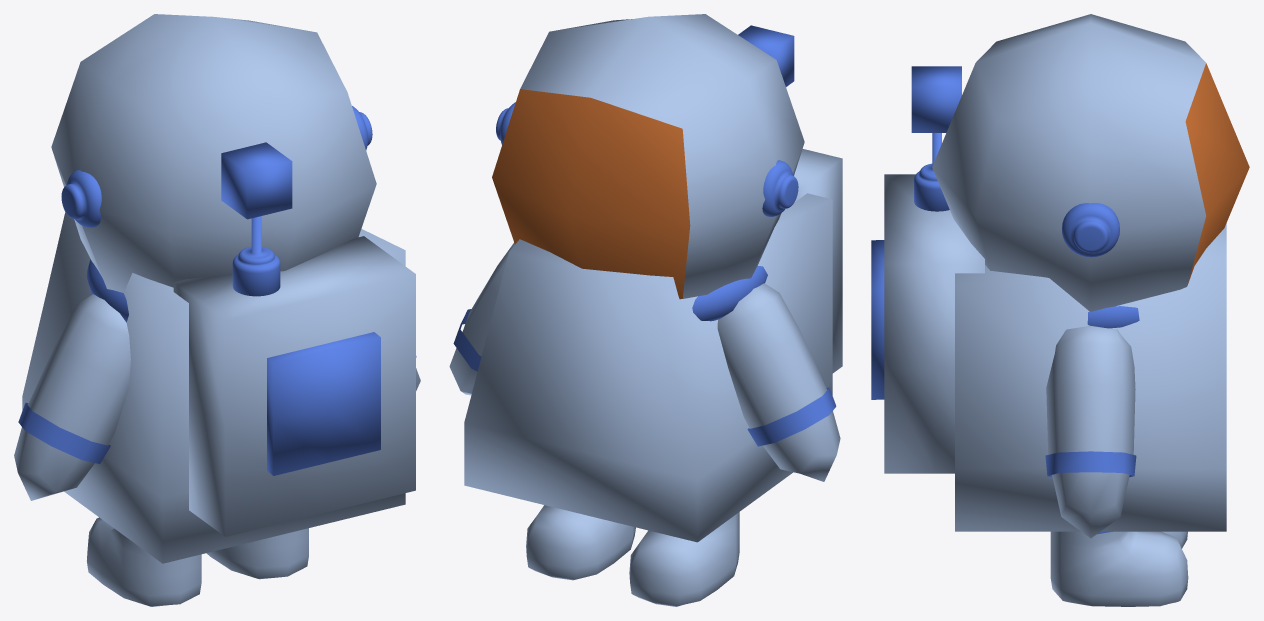
The model's file is Practica.glb.
3 views of the same model, side by side, from view 1: azimuth 30°, elevation 25°; view 2: azimuth 150°, elevation 25°; view 3: azimuth 270°, elevation 25° (orthographic). The views are drawn at different scales.
Visible parts, largest first — view 1: Cube, Cubo.005, Cubo, Cubo.011, Cubo.003, Cubo.001, Cubo.006, Cubo.008, Cilindro, Cubo.004, Cilindro.001, Rosca; view 2: Cubo, Cube, Cube.001, Cubo.003, Cubo.001, Cubo.008, Cubo.005, Cubo.007, Cubo.004, Rosca, Cubo.006, Cilindro.001 (+1 smaller); view 3: Cube, Cubo, Cubo.005, Cubo.007, Cubo.008, Cube.001, Cubo.006, Cilindro.002, Cubo.011, Cubo.009, Cilindro, Rosca.
Boxes of the visible parts, bbox=[...] form: Cube: bbox=[51, 14, 376, 292]; Cubo.005: bbox=[173, 236, 415, 536]; Cubo: bbox=[22, 212, 405, 563]; Cubo.011: bbox=[267, 332, 380, 475]; Cubo.003: bbox=[14, 294, 130, 500]; Cubo.001: bbox=[87, 517, 201, 606]; Cubo.006: bbox=[221, 142, 292, 219]; Cubo.008: bbox=[206, 528, 308, 579]; Cilindro: bbox=[232, 216, 280, 296]; Cubo.004: bbox=[18, 402, 110, 463]; Cilindro.001: bbox=[61, 170, 101, 227]; Rosca: bbox=[87, 259, 128, 322]; Cubo: bbox=[464, 193, 832, 542]; Cube: bbox=[520, 14, 804, 298]; Cube.001: bbox=[492, 89, 690, 299]; Cubo.003: bbox=[717, 283, 840, 481]; Cubo.001: bbox=[629, 512, 739, 606]; Cubo.008: bbox=[526, 505, 635, 580]; Cubo.005: bbox=[794, 149, 842, 373]; Cubo.007: bbox=[449, 242, 514, 395]; Cubo.004: bbox=[747, 387, 836, 446]; Rosca: bbox=[692, 266, 767, 321]; Cubo.006: bbox=[738, 25, 794, 86]; Cilindro.001: bbox=[762, 160, 798, 216]; Cube: bbox=[932, 14, 1205, 311]; Cubo: bbox=[955, 223, 1226, 531]; Cubo.005: bbox=[884, 174, 984, 473]; Cubo.007: bbox=[1046, 326, 1135, 538]; Cubo.008: bbox=[1050, 531, 1188, 606]; Cube.001: bbox=[1185, 63, 1249, 284]; Cubo.006: bbox=[911, 66, 961, 132]; Cilindro.002: bbox=[1062, 203, 1119, 257]; Cubo.011: bbox=[871, 240, 884, 399]; Cubo.009: bbox=[1045, 451, 1136, 477]; Cilindro: bbox=[914, 133, 949, 211]; Rosca: bbox=[1087, 306, 1139, 328].
Bounding box in the file's own units: 2.36 × 3.2 × 2.
